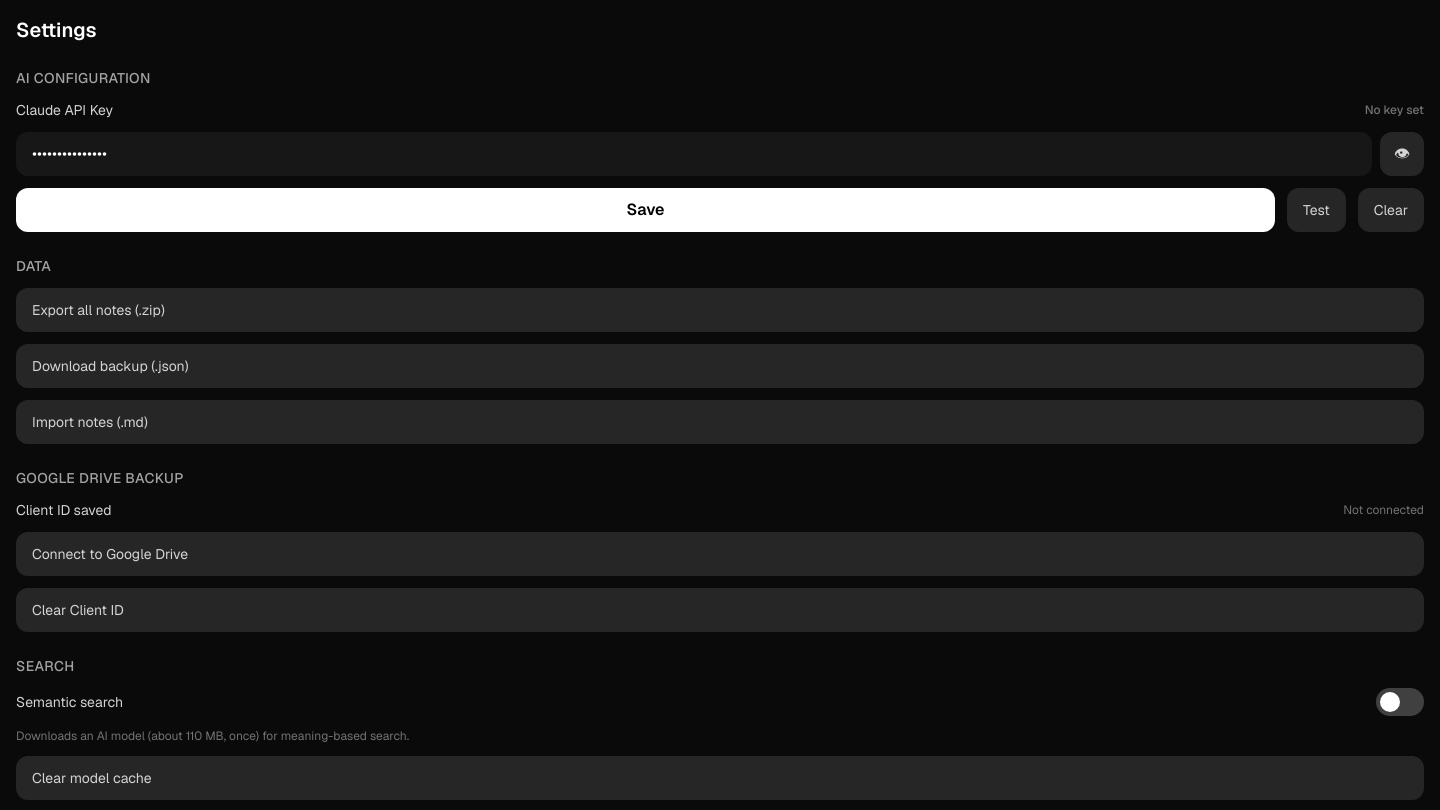
Scenario: SettingsView › Clear button deletes key from config and clears input
Check: the password field showing "sk-ant-existing" is shown, box [16,132,1372,176]
What coordinates should you click on to do the following:
click the button with aria-label "clear api key"
I would click on:
 (1391, 210)
Its box is [1358,188,1424,232].
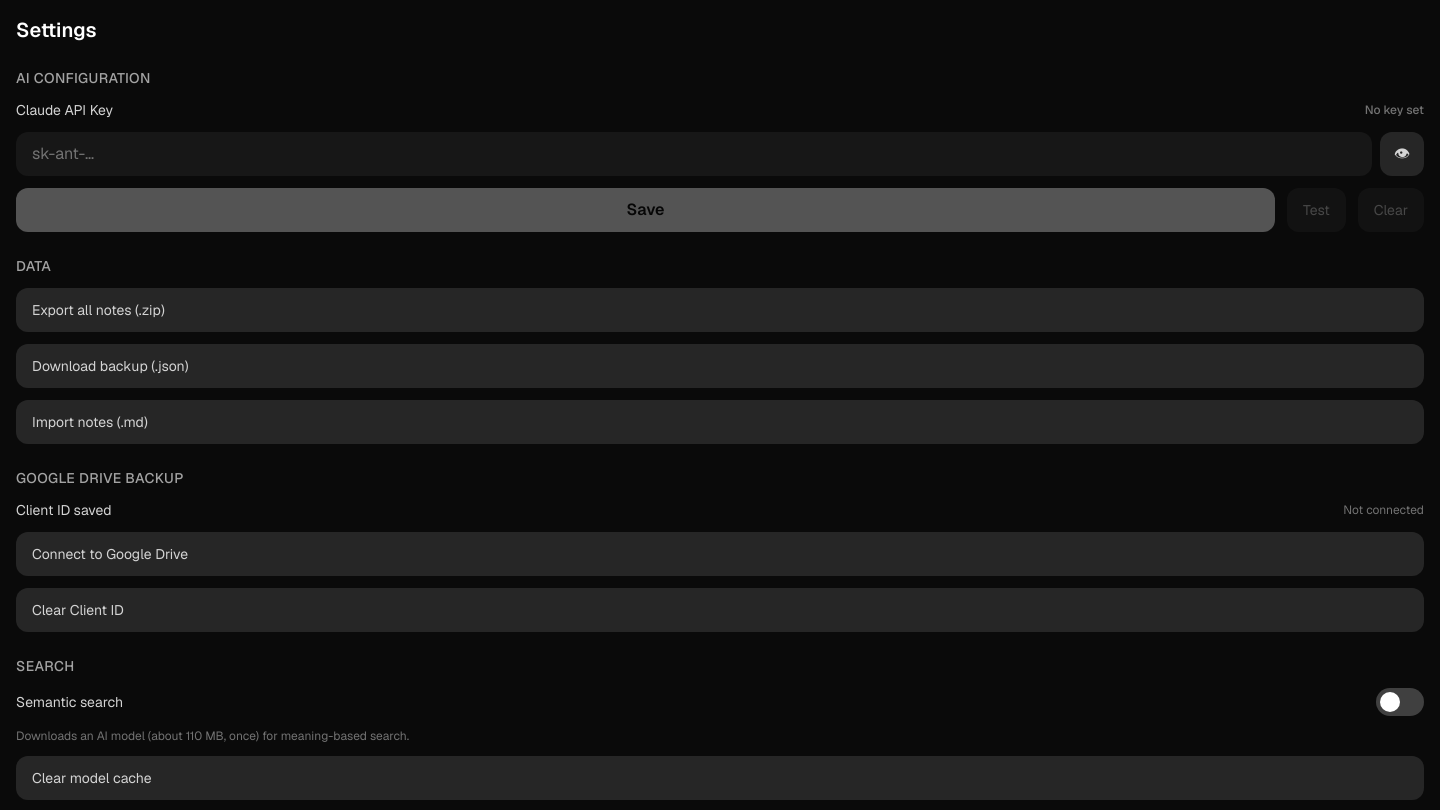
Check: the password field labelled "Claude API Key" is empty, box [16,132,1372,176]
